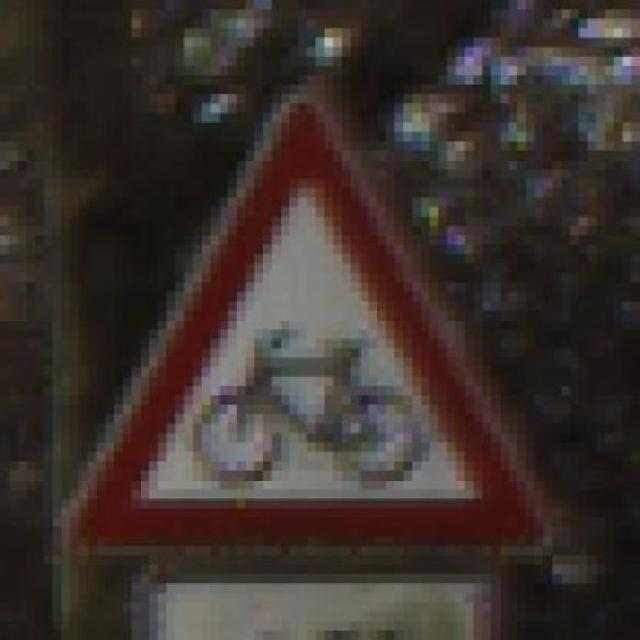CYCLE ROUTE AHEAD WARNING: (36, 57, 562, 555)
